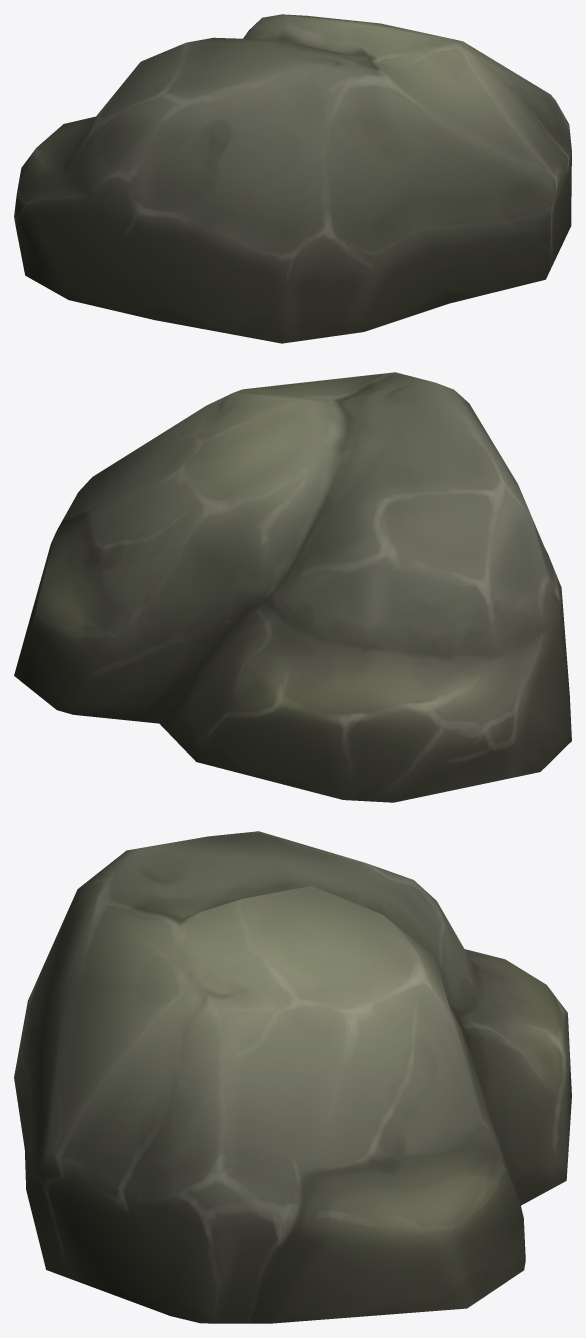
The model's file is Rock_4.FBX.
3 renders of one model, top to bottom at view 1: azimuth 30°, elevation 25°; view 2: azimuth 150°, elevation 25°; view 3: azimuth 270°, elevation 25°, orthographic. The views are drawn at different scales.
Parts seen in each view (by area): view 1: Rock_4; view 2: Rock_4; view 3: Rock_4.
Part boxes in pixels (x1,y1,x2,y2): Rock_4: (14, 14, 571, 343); Rock_4: (14, 372, 571, 802); Rock_4: (14, 831, 571, 1323).
Size of what is drawn, in the model's own units: 567 by 447 by 265.
